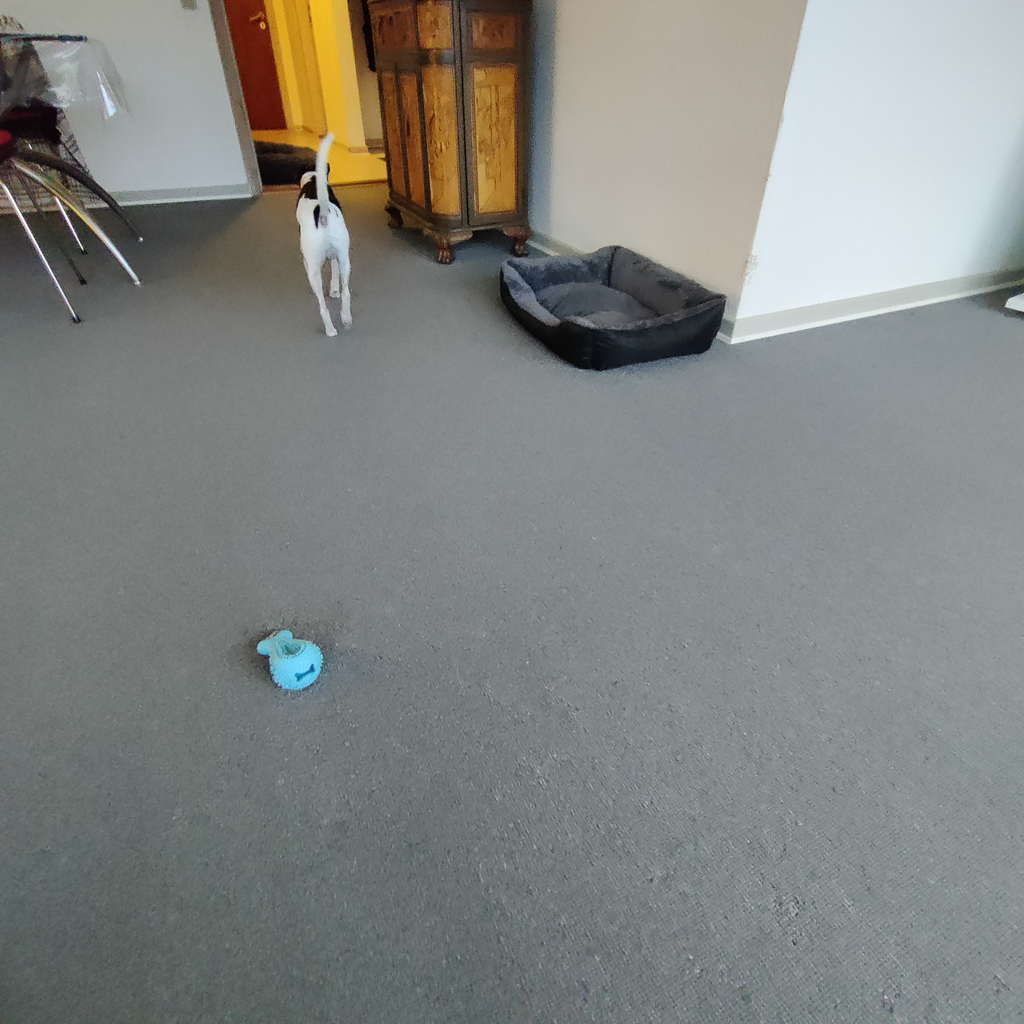Dog: (264, 116, 393, 355)
